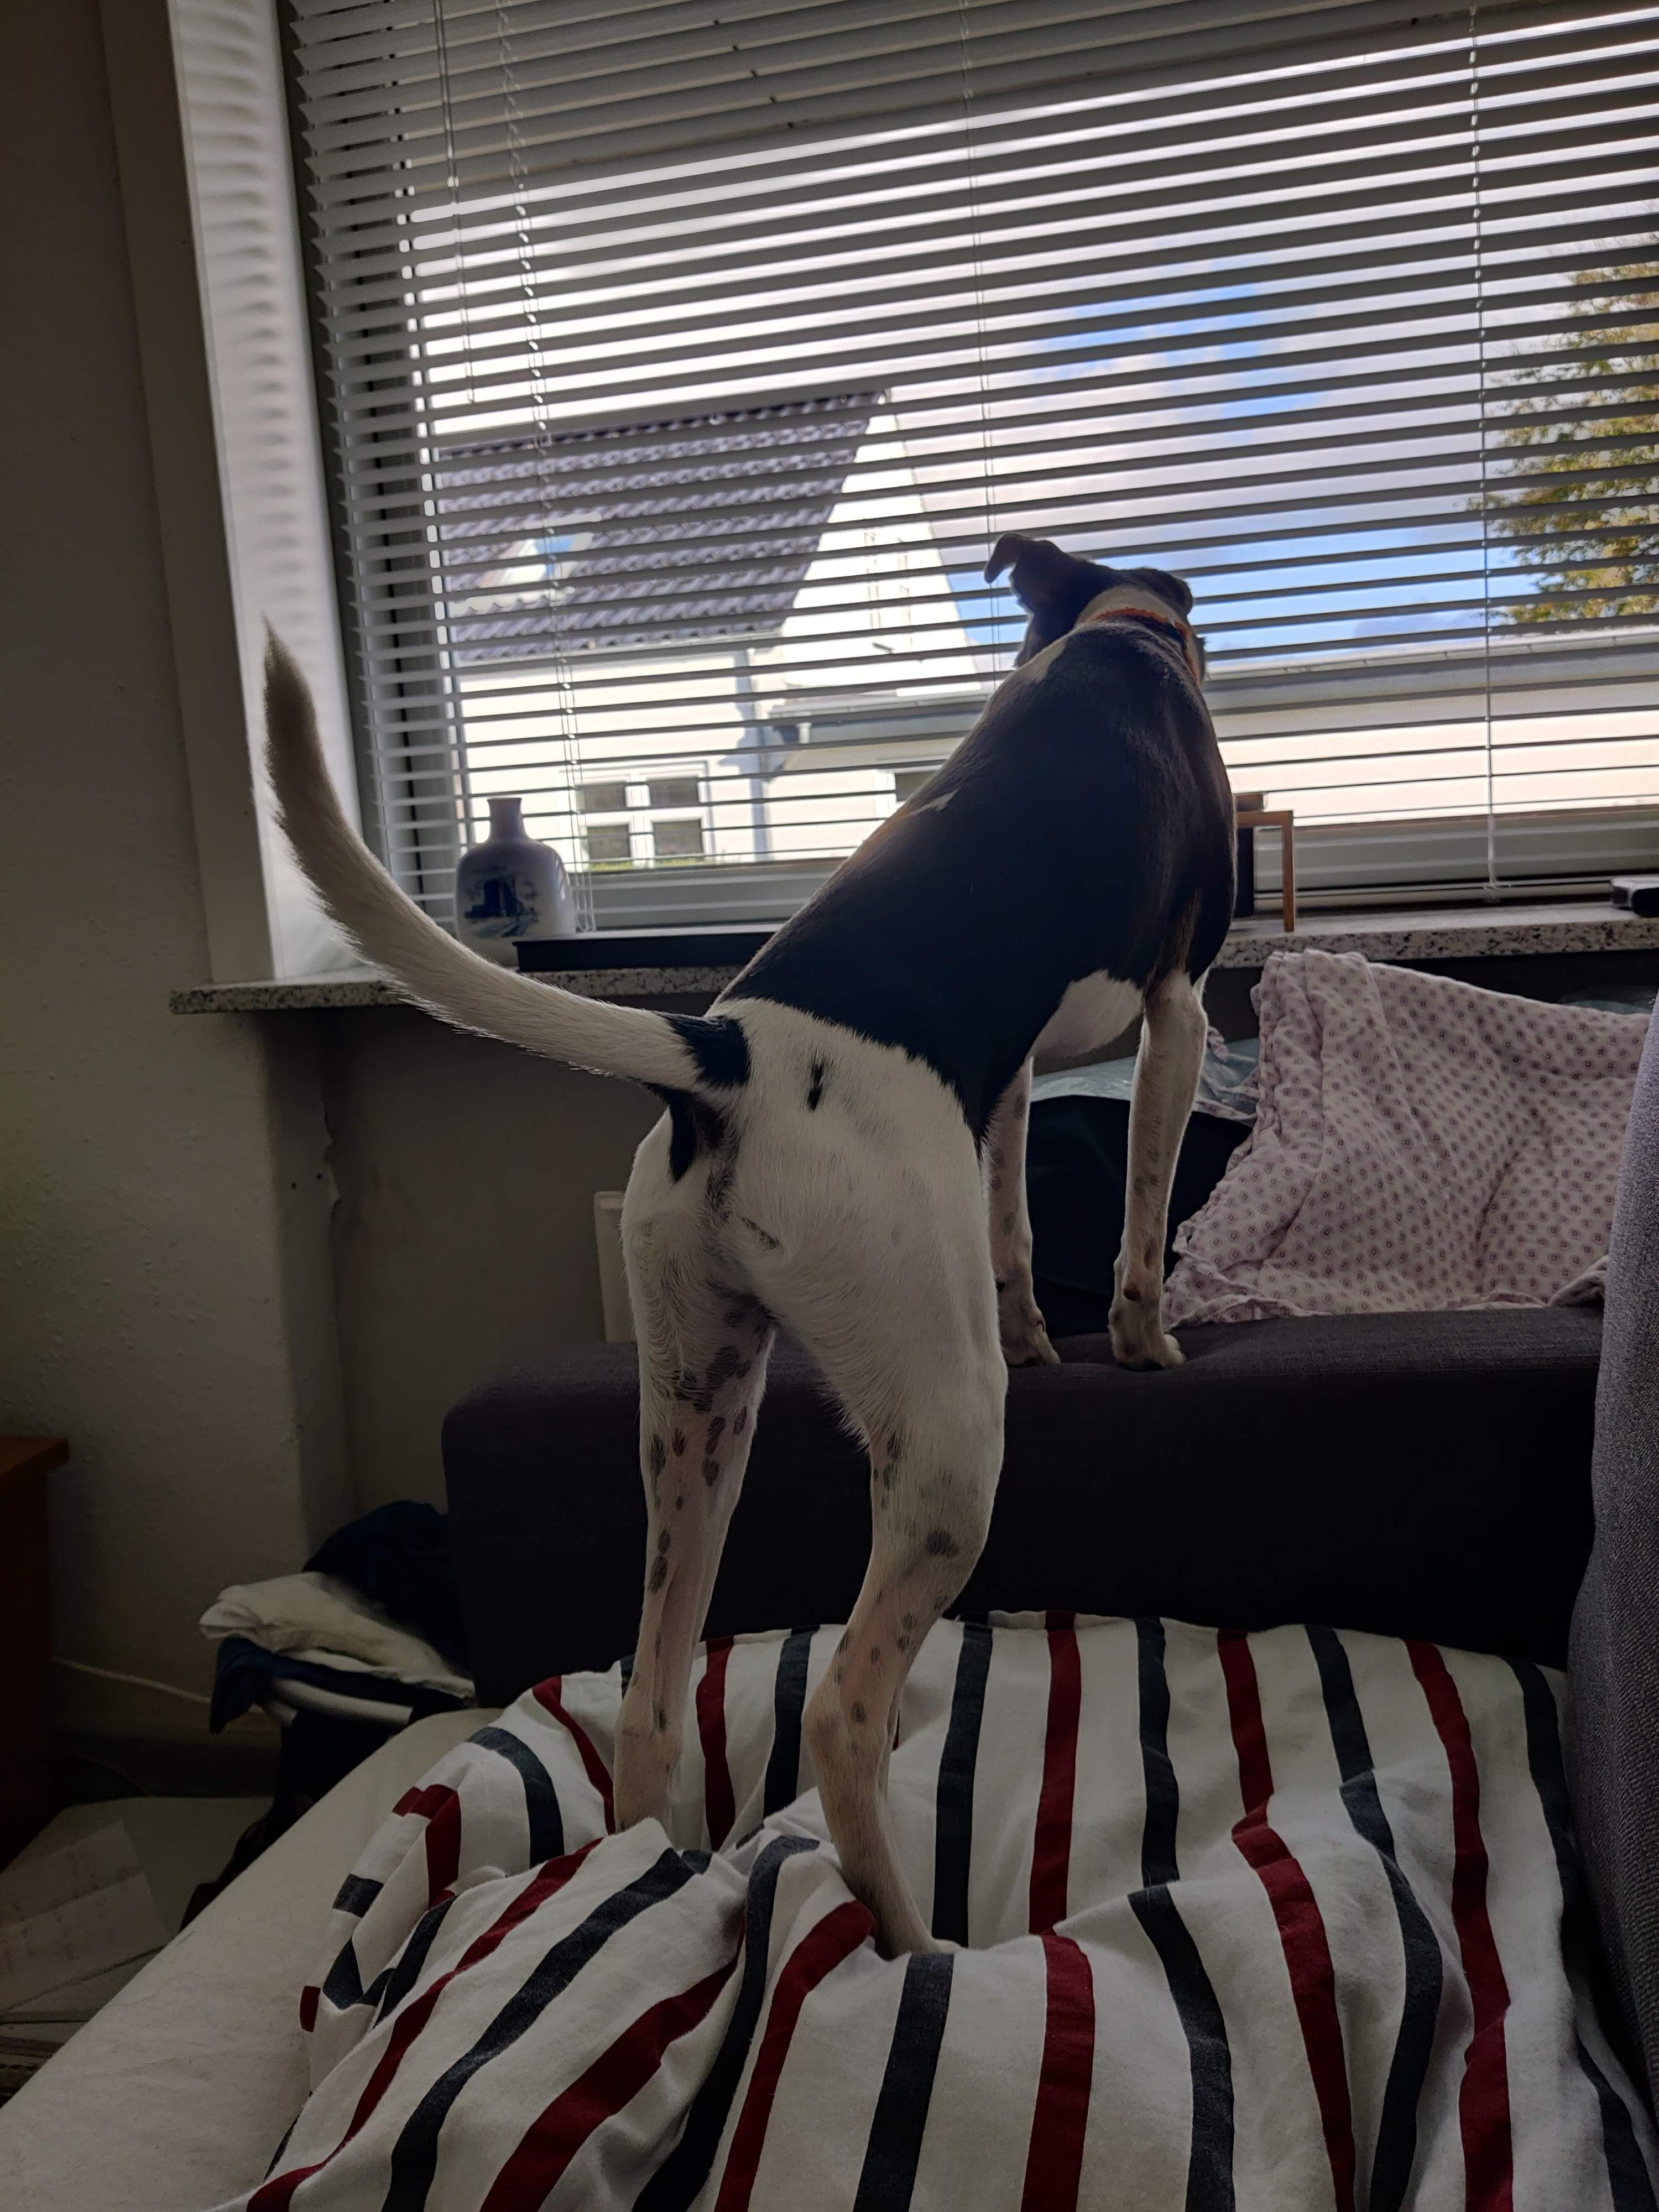Dog: (256, 529, 1249, 1961)
